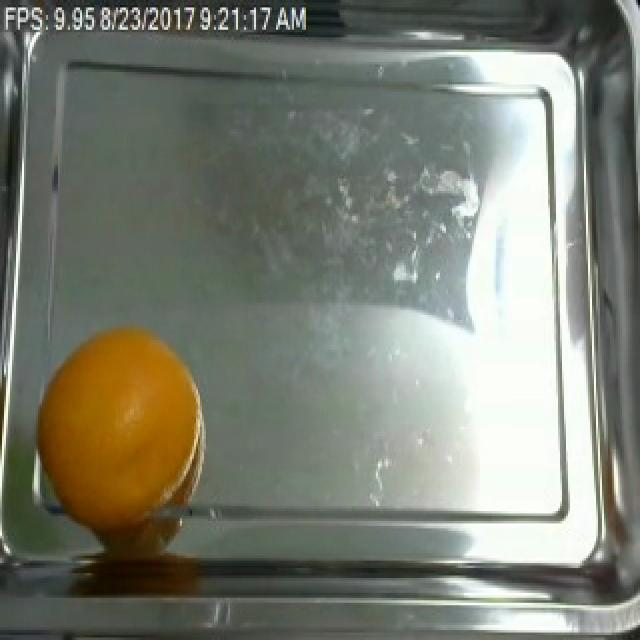Fruit: (32, 310, 210, 546)
